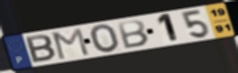1: (156, 12, 181, 43)
5: (179, 8, 213, 40)
B: (24, 33, 58, 65), (116, 19, 151, 50)
M: (51, 27, 92, 61)
O: (89, 23, 122, 55)
